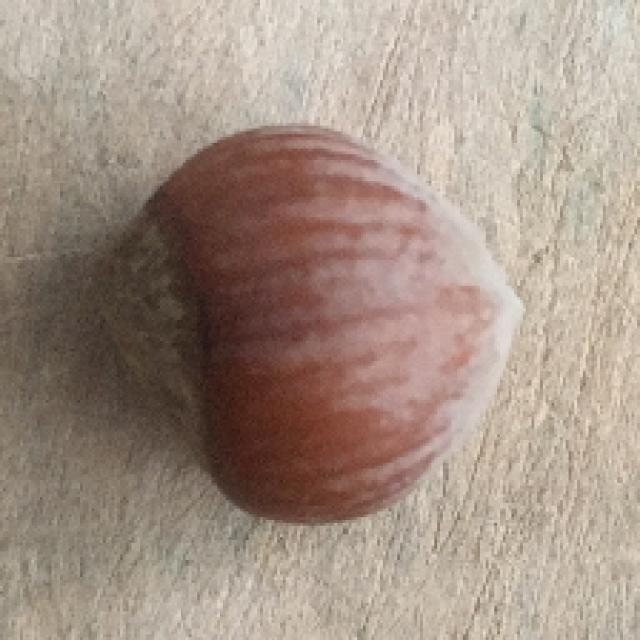qualityHazelnut: (90, 119, 526, 533)
